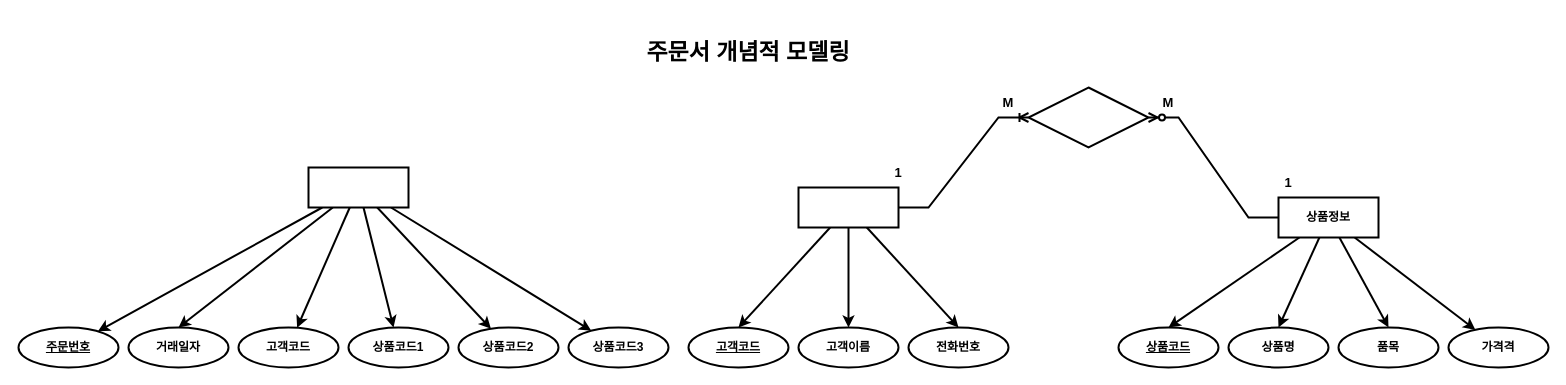
The diagram is 1566 pixels wide and 385 high, and some of its shapes have lost their labels. Here are the shapes that lost their labels. From the top down, the centre of each, then its label:
pixel 1088 117: 주문내역
pixel 358 187: 주문원장
pixel 848 207: 고객정보
